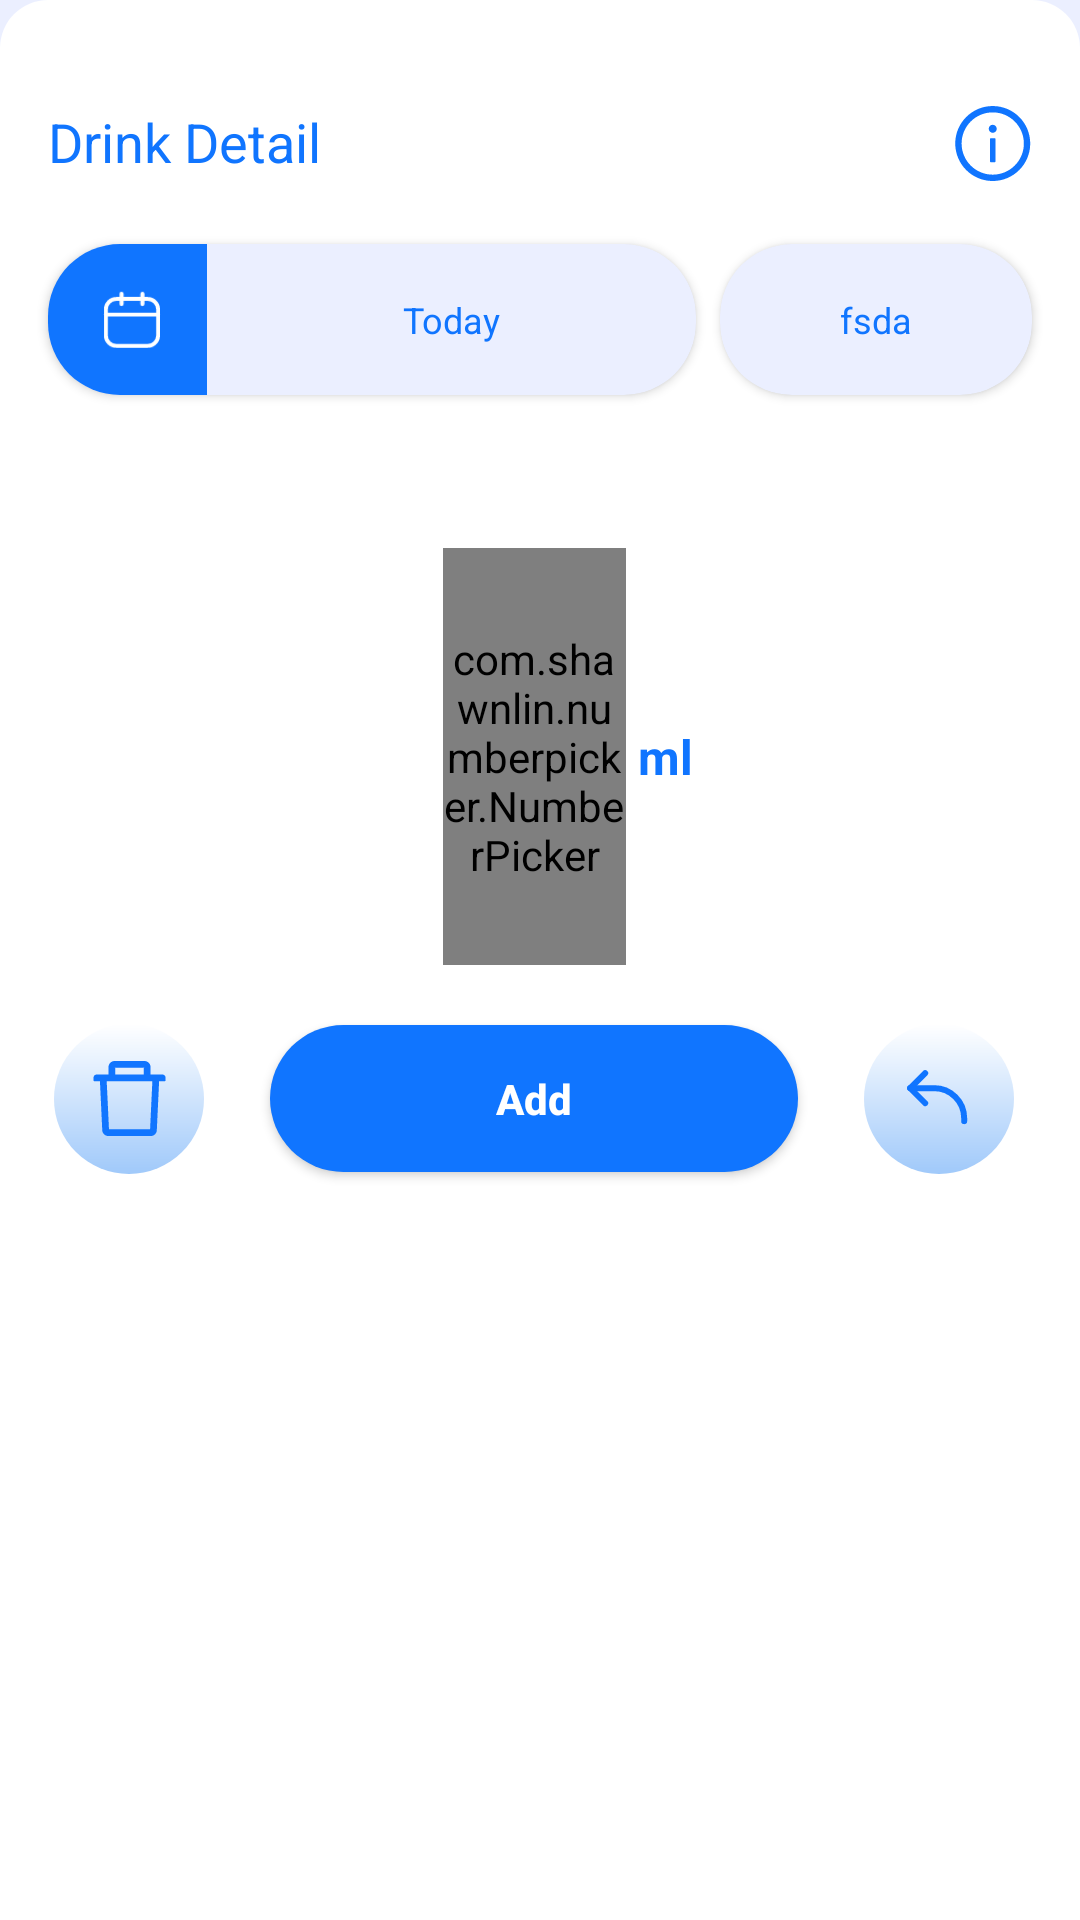

Screen size 1080x1920. Icon name, then its center in pixels as (x,y):
back round: (938,1098)
calendar: (127,319)
delete: (128,1099)
info: (993,143)
